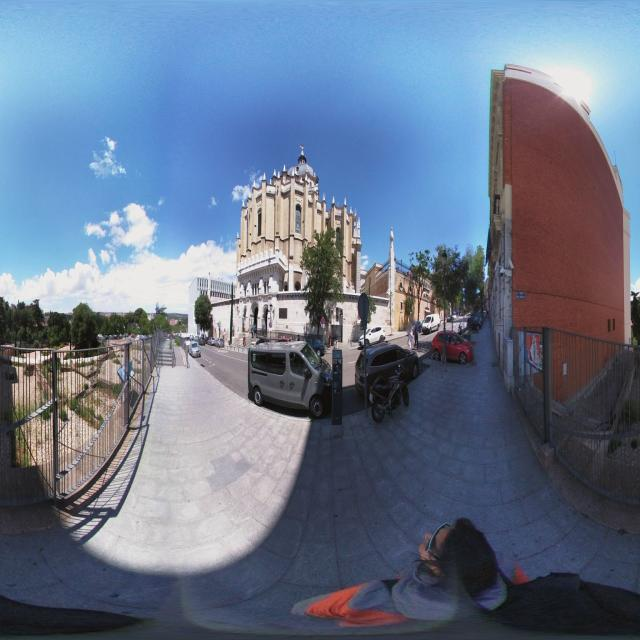forb_stopping: (357, 313, 361, 320), (321, 317, 325, 323), (269, 322, 272, 328)
